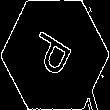P_SE: (28, 27, 82, 83)
